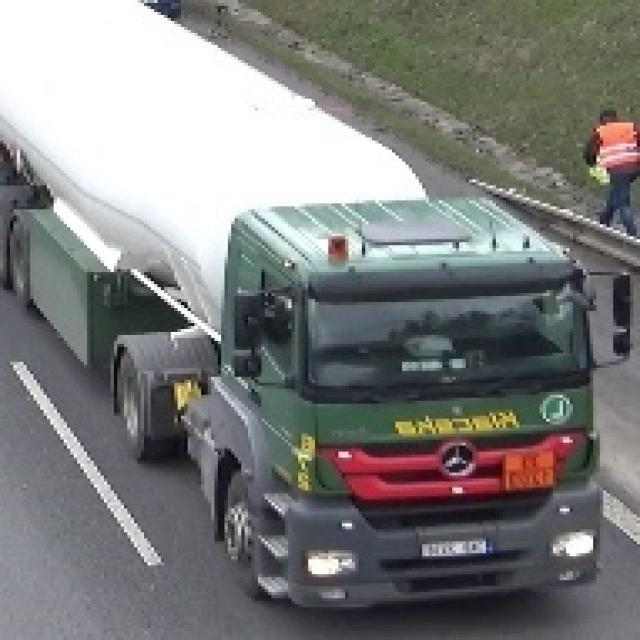TRUCK: (0, 72, 593, 598)
